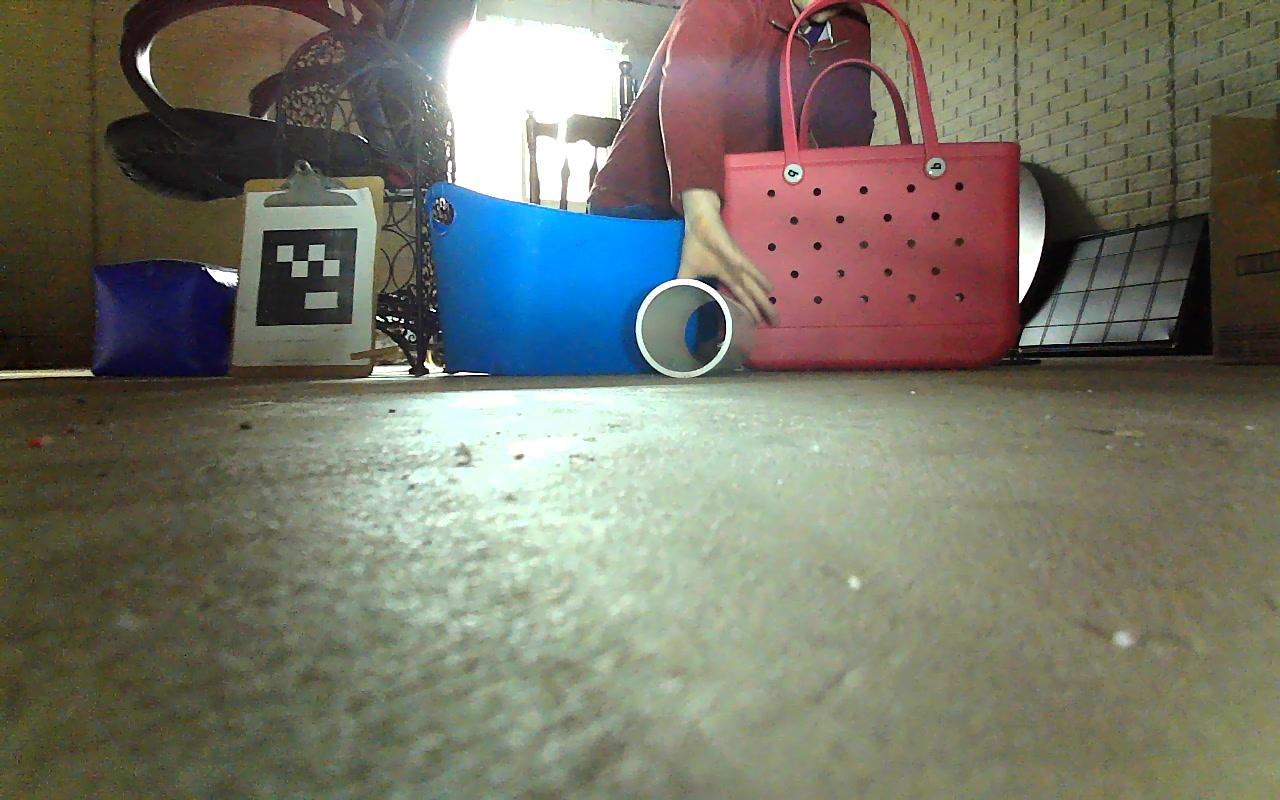coral: (637, 278, 763, 378)
